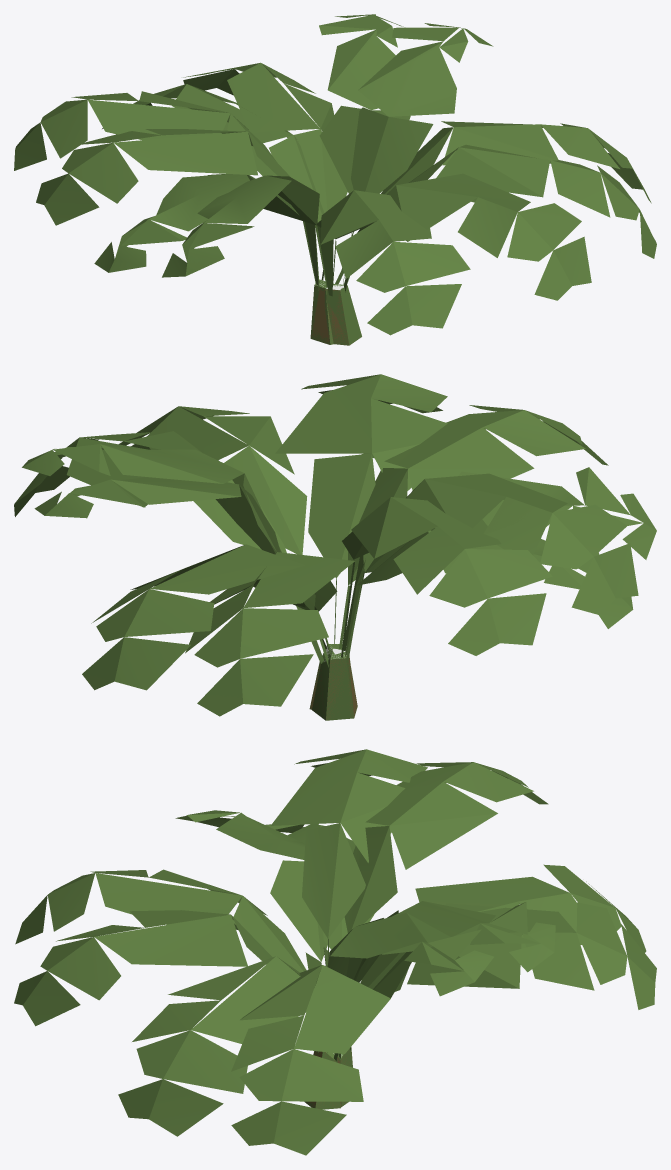
The model's file is Vegetation_Fern_Large_03.fbx.
The picture shows the model from 3 angles, top to bottom: view 1: azimuth 30°, elevation 25°; view 2: azimuth 150°, elevation 25°; view 3: azimuth 270°, elevation 25°; orthographic projection. The views are drawn at different scales.
Parts seen in each view (by area): view 1: Vegetation_Fern_Large_03; view 2: Vegetation_Fern_Large_03; view 3: Vegetation_Fern_Large_03.
Boxes of the visible parts, left/top/right/bottom form: Vegetation_Fern_Large_03: left=14, top=14, right=656, bottom=345; Vegetation_Fern_Large_03: left=14, top=374, right=656, bottom=720; Vegetation_Fern_Large_03: left=14, top=749, right=656, bottom=1155.
Bounding box in the file's own units: 94.34 × 37.5 × 89.25.
